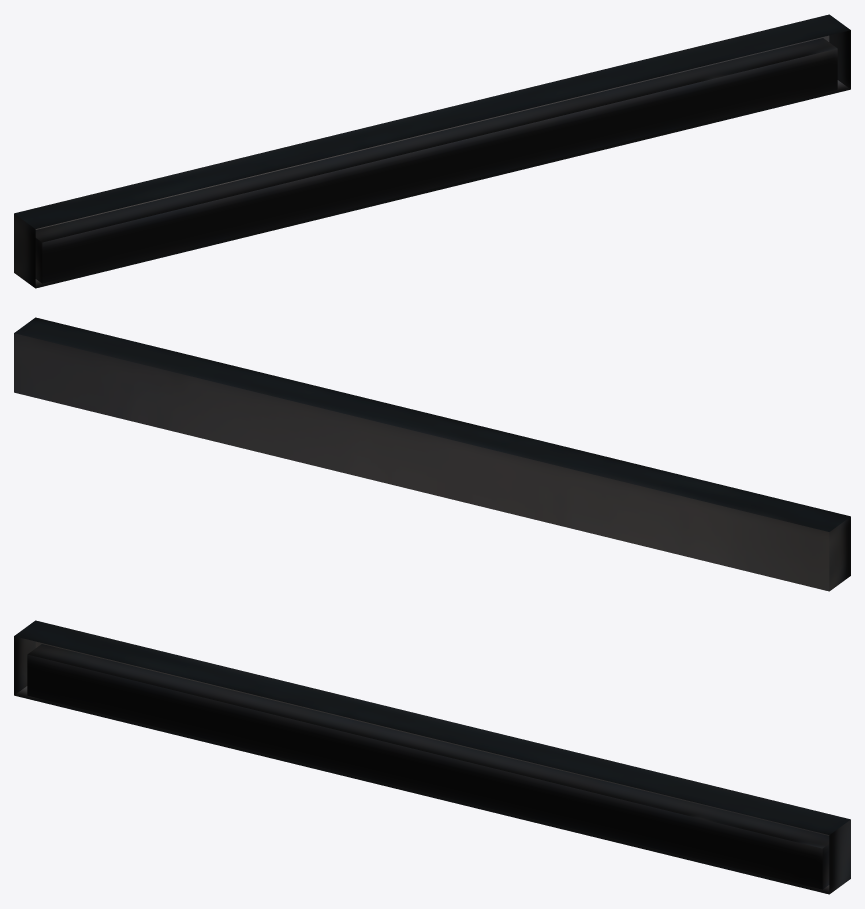
3 renders of one model, top to bottom at view 1: azimuth 30°, elevation 25°; view 2: azimuth 150°, elevation 25°; view 3: azimuth 330°, elevation 25°, orthographic.
Parts seen in each view (by area): view 1: Cube.028; view 2: Cube.028; view 3: Cube.028.
Part boxes in pixels (x1=…): Cube.028: x1=14, y1=14, x2=850, y2=288; Cube.028: x1=14, y1=317, x2=850, y2=591; Cube.028: x1=14, y1=620, x2=850, y2=894.
Bounding box in the file's own units: 2.65 × 0.1847 × 0.1213.
1 material, 1 textured.
